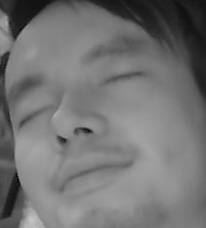blink: (17, 104, 52, 126), (100, 70, 142, 88)
mouth: (45, 150, 138, 196)
